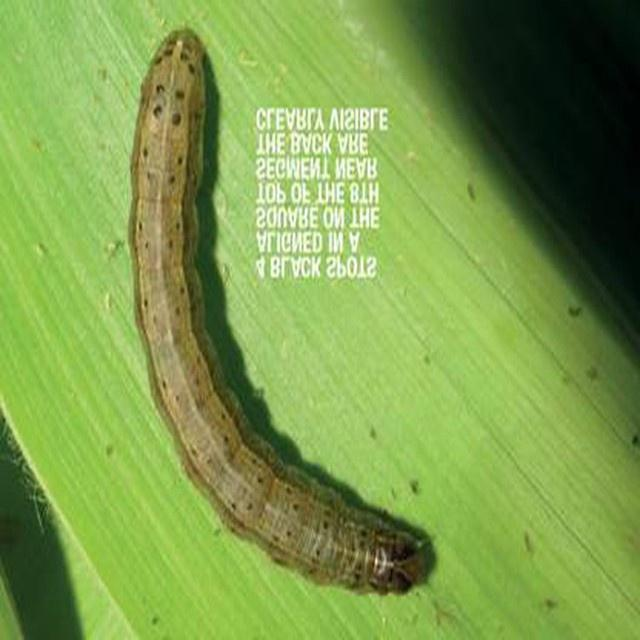yellow-stem-borer-larva: (124, 28, 460, 610)
